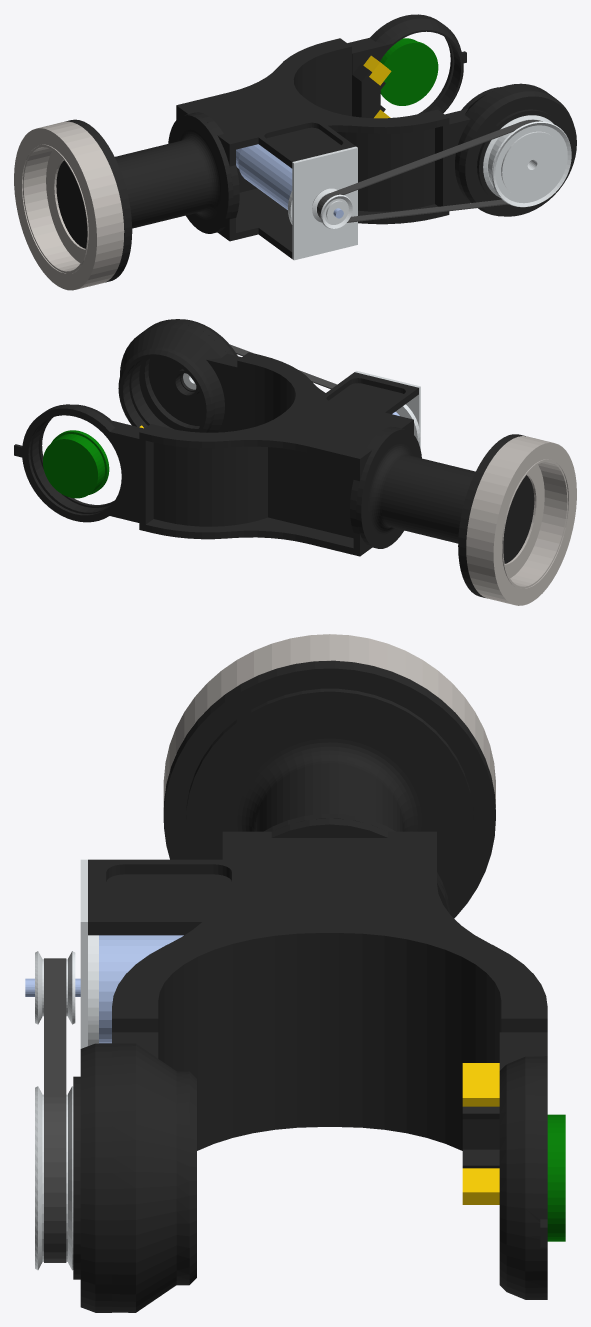
File: RARM_LINK3_mesh.dae
The picture shows the model from 3 angles, top to bottom: view 1: azimuth 30°, elevation 25°; view 2: azimuth 150°, elevation 25°; view 3: azimuth 270°, elevation 25°; orthographic projection. The views are drawn at different scales.
Parts seen in each view (by area): view 1: RARM_LINK3 (×15); view 2: RARM_LINK3 (×9); view 3: RARM_LINK3 (×17).
Boxes of the visible parts, x1,y1,x2,y2 form: RARM_LINK3 (×15): (14, 14, 576, 290); RARM_LINK3 (×9): (14, 319, 576, 605); RARM_LINK3 (×17): (25, 634, 565, 1312).
Size of the model in its own units: 0.2908 by 0.09 by 0.1464.
